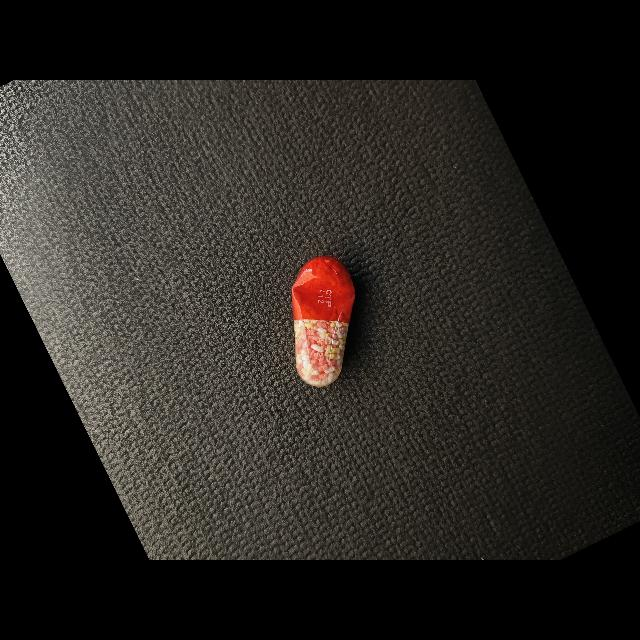Defective Capsule: (292, 256, 356, 387)
